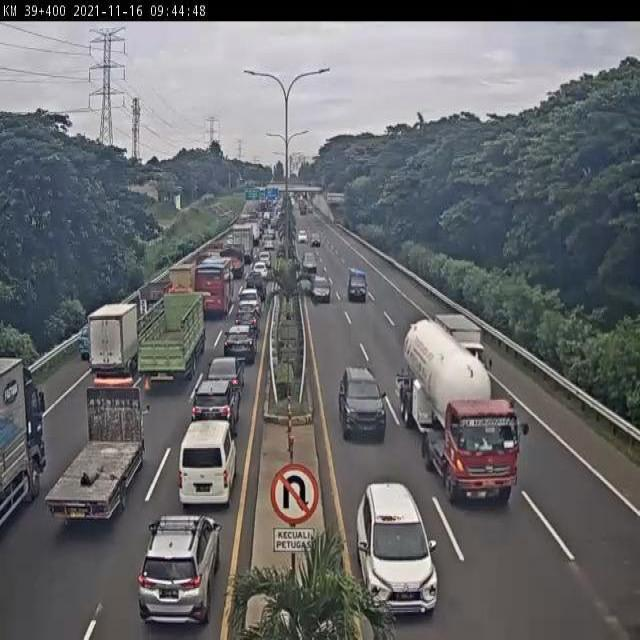big bus: (194, 253, 234, 316)
car: (355, 481, 441, 620), (136, 515, 221, 624), (338, 367, 388, 441), (188, 382, 236, 447), (205, 355, 246, 396), (223, 327, 255, 365), (232, 308, 259, 335), (236, 288, 261, 316), (347, 268, 368, 301), (311, 273, 333, 304)
small bus: (177, 422, 237, 507)
small truck: (435, 308, 494, 383), (163, 263, 196, 309)
truck-l-: (137, 295, 206, 381)
truck-m-: (48, 384, 149, 524), (87, 296, 140, 380), (137, 278, 175, 318)
truck-xl-: (396, 320, 523, 504)
